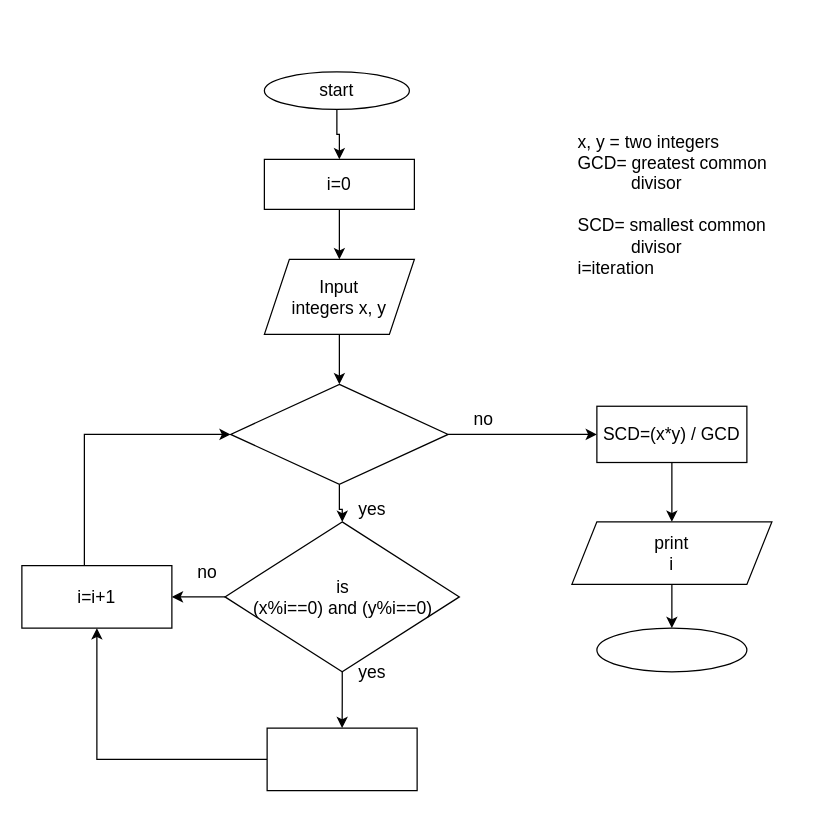
The diagram is 831 pixels wide and 813 high, and some of its shapes have lost their labels. Each missing label, with the box of its shape:
end: (596, 627, 747, 672)
GCD= i: (266, 727, 417, 791)
is i<=x and i<=y: (229, 383, 448, 484)
